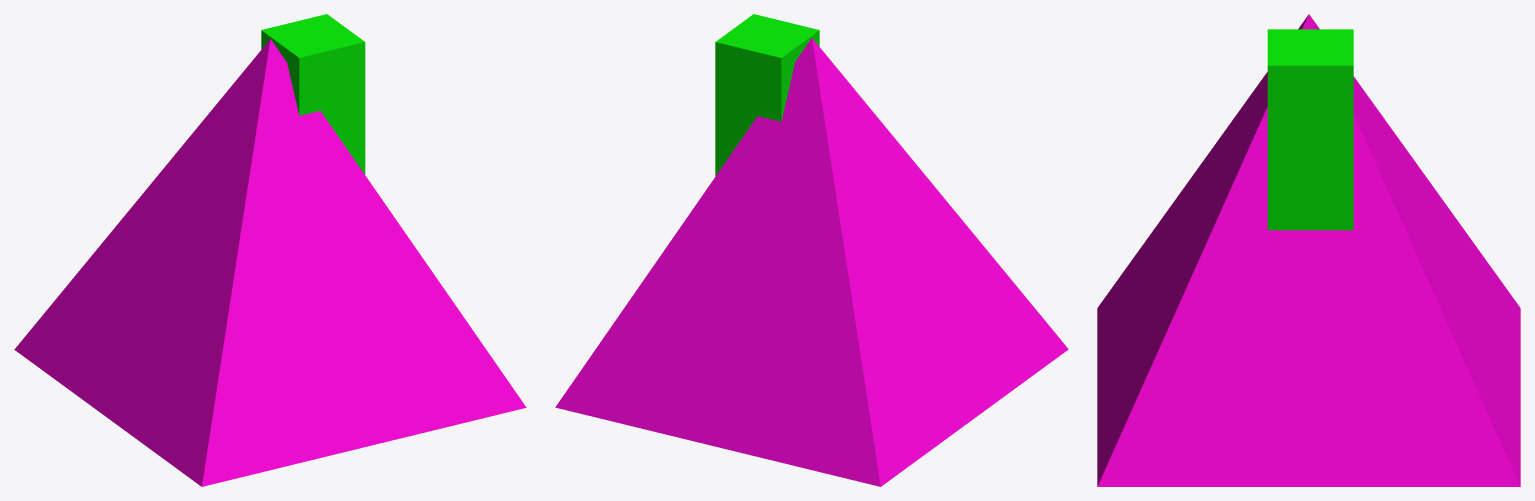
File: thingy.FBX
3 views of the same model, side by side, from view 1: azimuth 30°, elevation 25°; view 2: azimuth 150°, elevation 25°; view 3: azimuth 270°, elevation 25° (orthographic). The views are drawn at different scales.
Visible parts, largest first — view 1: Pyramid001, Box001; view 2: Pyramid001, Box001; view 3: Pyramid001, Box001.
Part boxes in pixels (bbox=[...]): Pyramid001: bbox=[14, 39, 526, 486]; Box001: bbox=[261, 14, 365, 174]; Pyramid001: bbox=[555, 38, 1068, 486]; Box001: bbox=[715, 14, 819, 176]; Pyramid001: bbox=[1097, 14, 1520, 486]; Box001: bbox=[1267, 29, 1353, 230].
Size of the model in its own units: 20 by 20 by 20.
